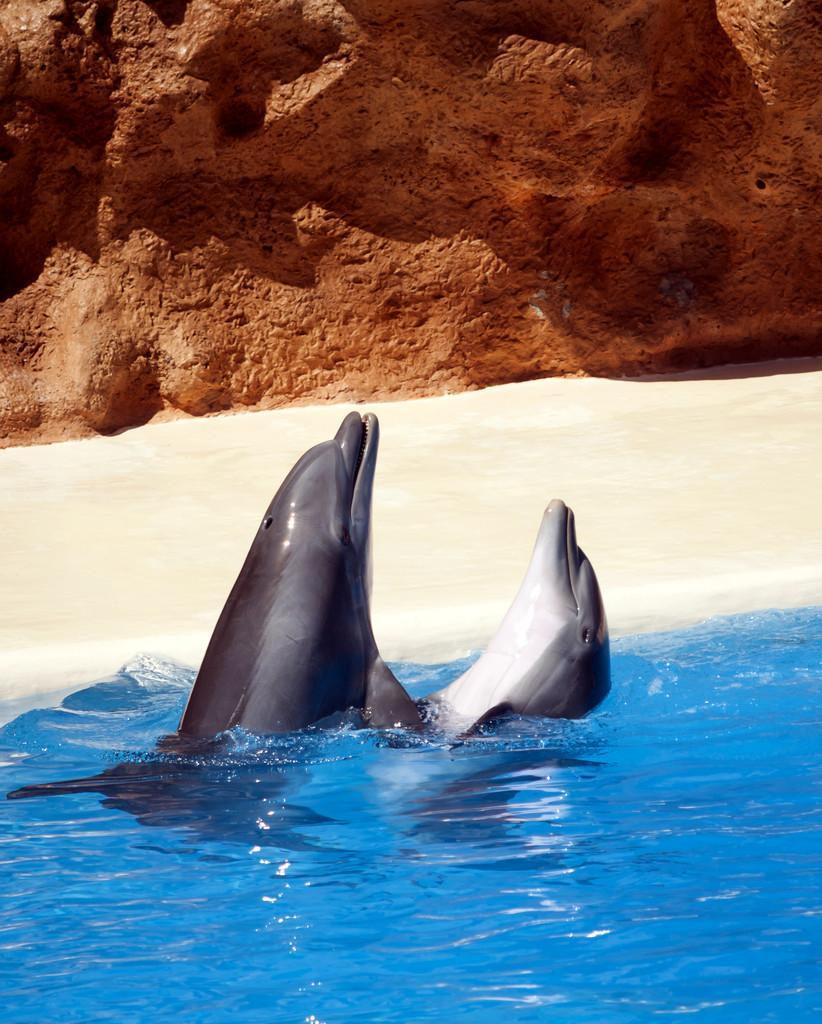fish: (4, 406, 439, 871), (379, 491, 652, 856)
